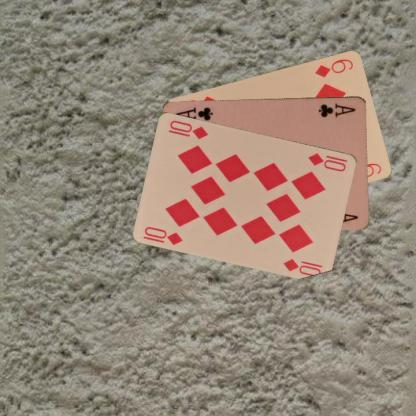10d: (306, 150, 348, 172), (142, 224, 184, 246)
6d: (312, 56, 354, 78)
Ac: (316, 100, 357, 118)
